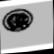correct: (0, 5, 38, 35)
